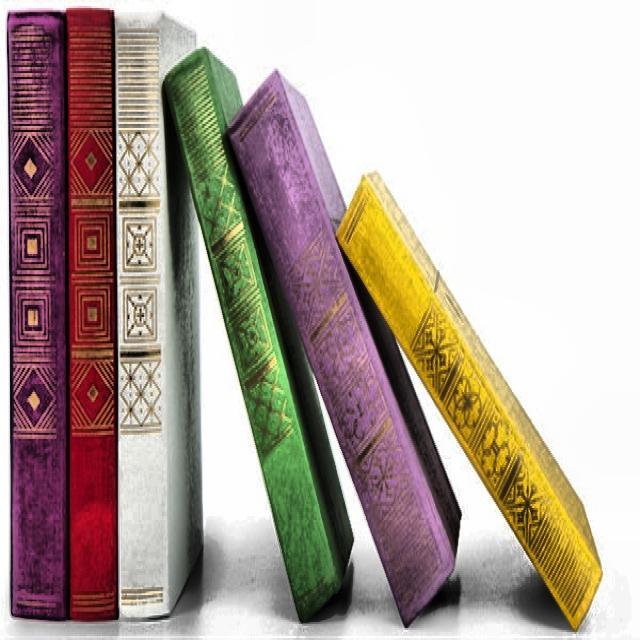Books: (229, 71, 460, 625), (338, 171, 601, 627), (165, 50, 352, 620), (116, 14, 202, 618), (9, 12, 65, 620), (66, 10, 118, 621)
